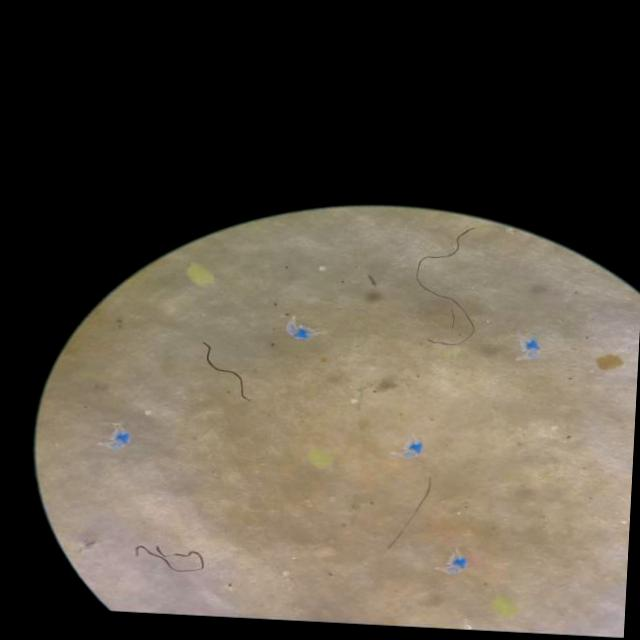fiber: (415, 227, 475, 345), (388, 478, 430, 547), (203, 343, 247, 399), (135, 545, 203, 573)
film: (100, 424, 129, 449), (437, 551, 467, 574), (518, 336, 540, 358), (287, 318, 310, 338), (399, 440, 421, 457)
fragment: (186, 265, 213, 285), (309, 449, 332, 468), (493, 598, 516, 617), (597, 354, 621, 370)
pellet: (319, 266, 325, 271), (351, 399, 357, 404), (146, 410, 150, 414)
